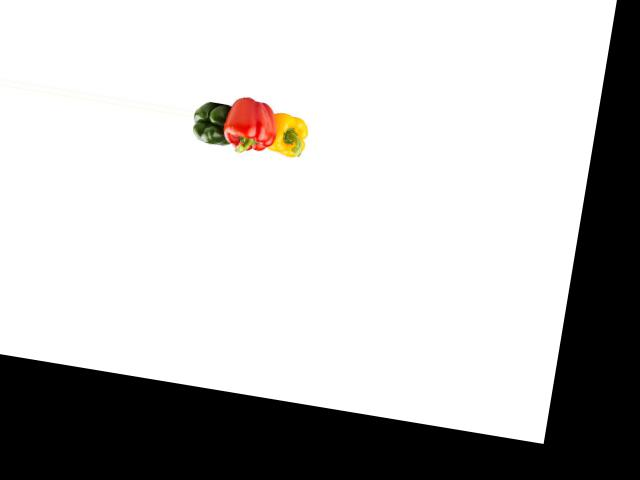bell_pepper: (263, 102, 314, 164)
